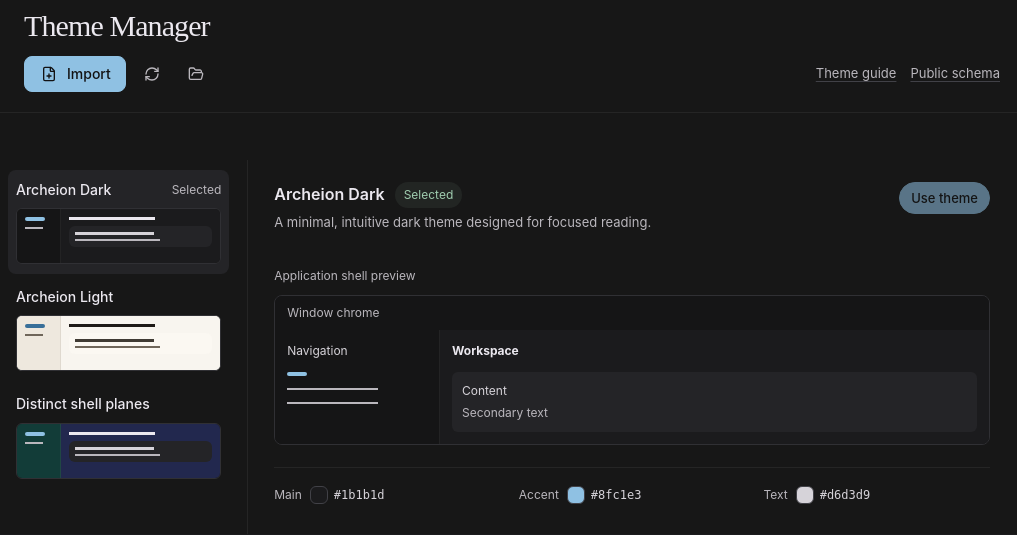
Test: ThemeManagerSurface preview ownership › shows resolved custom shell shell-distinct without normalizing or applying it
Click the button "Distinct shell planes". click: (119, 437)
box: [8,384,229,489]
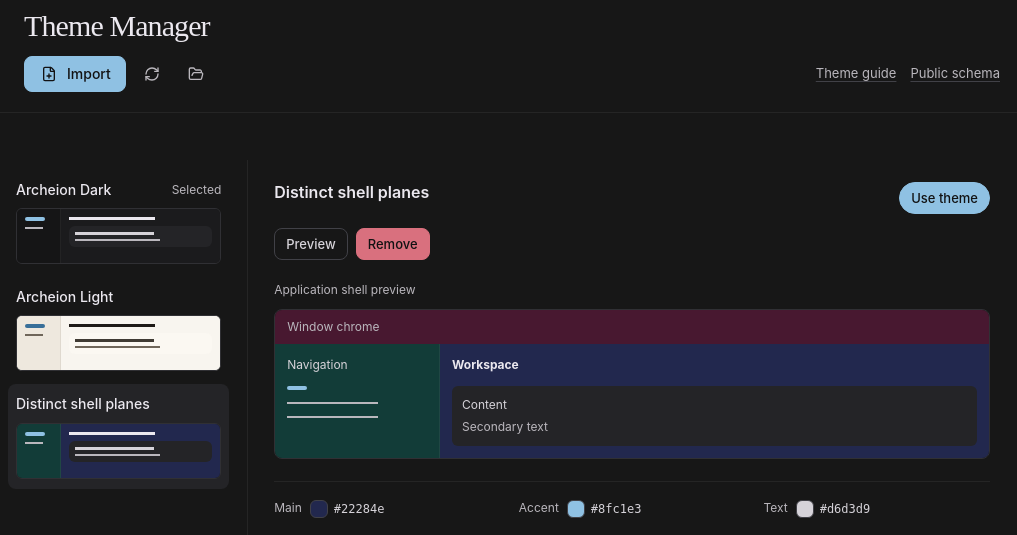
Expected: the picture with class "theme-shell-preview__graphic" that starts with "Window chrome" is shown, [274,309,990,459]
Expected: the text "#22284e" is shown, [334,500,384,518]
